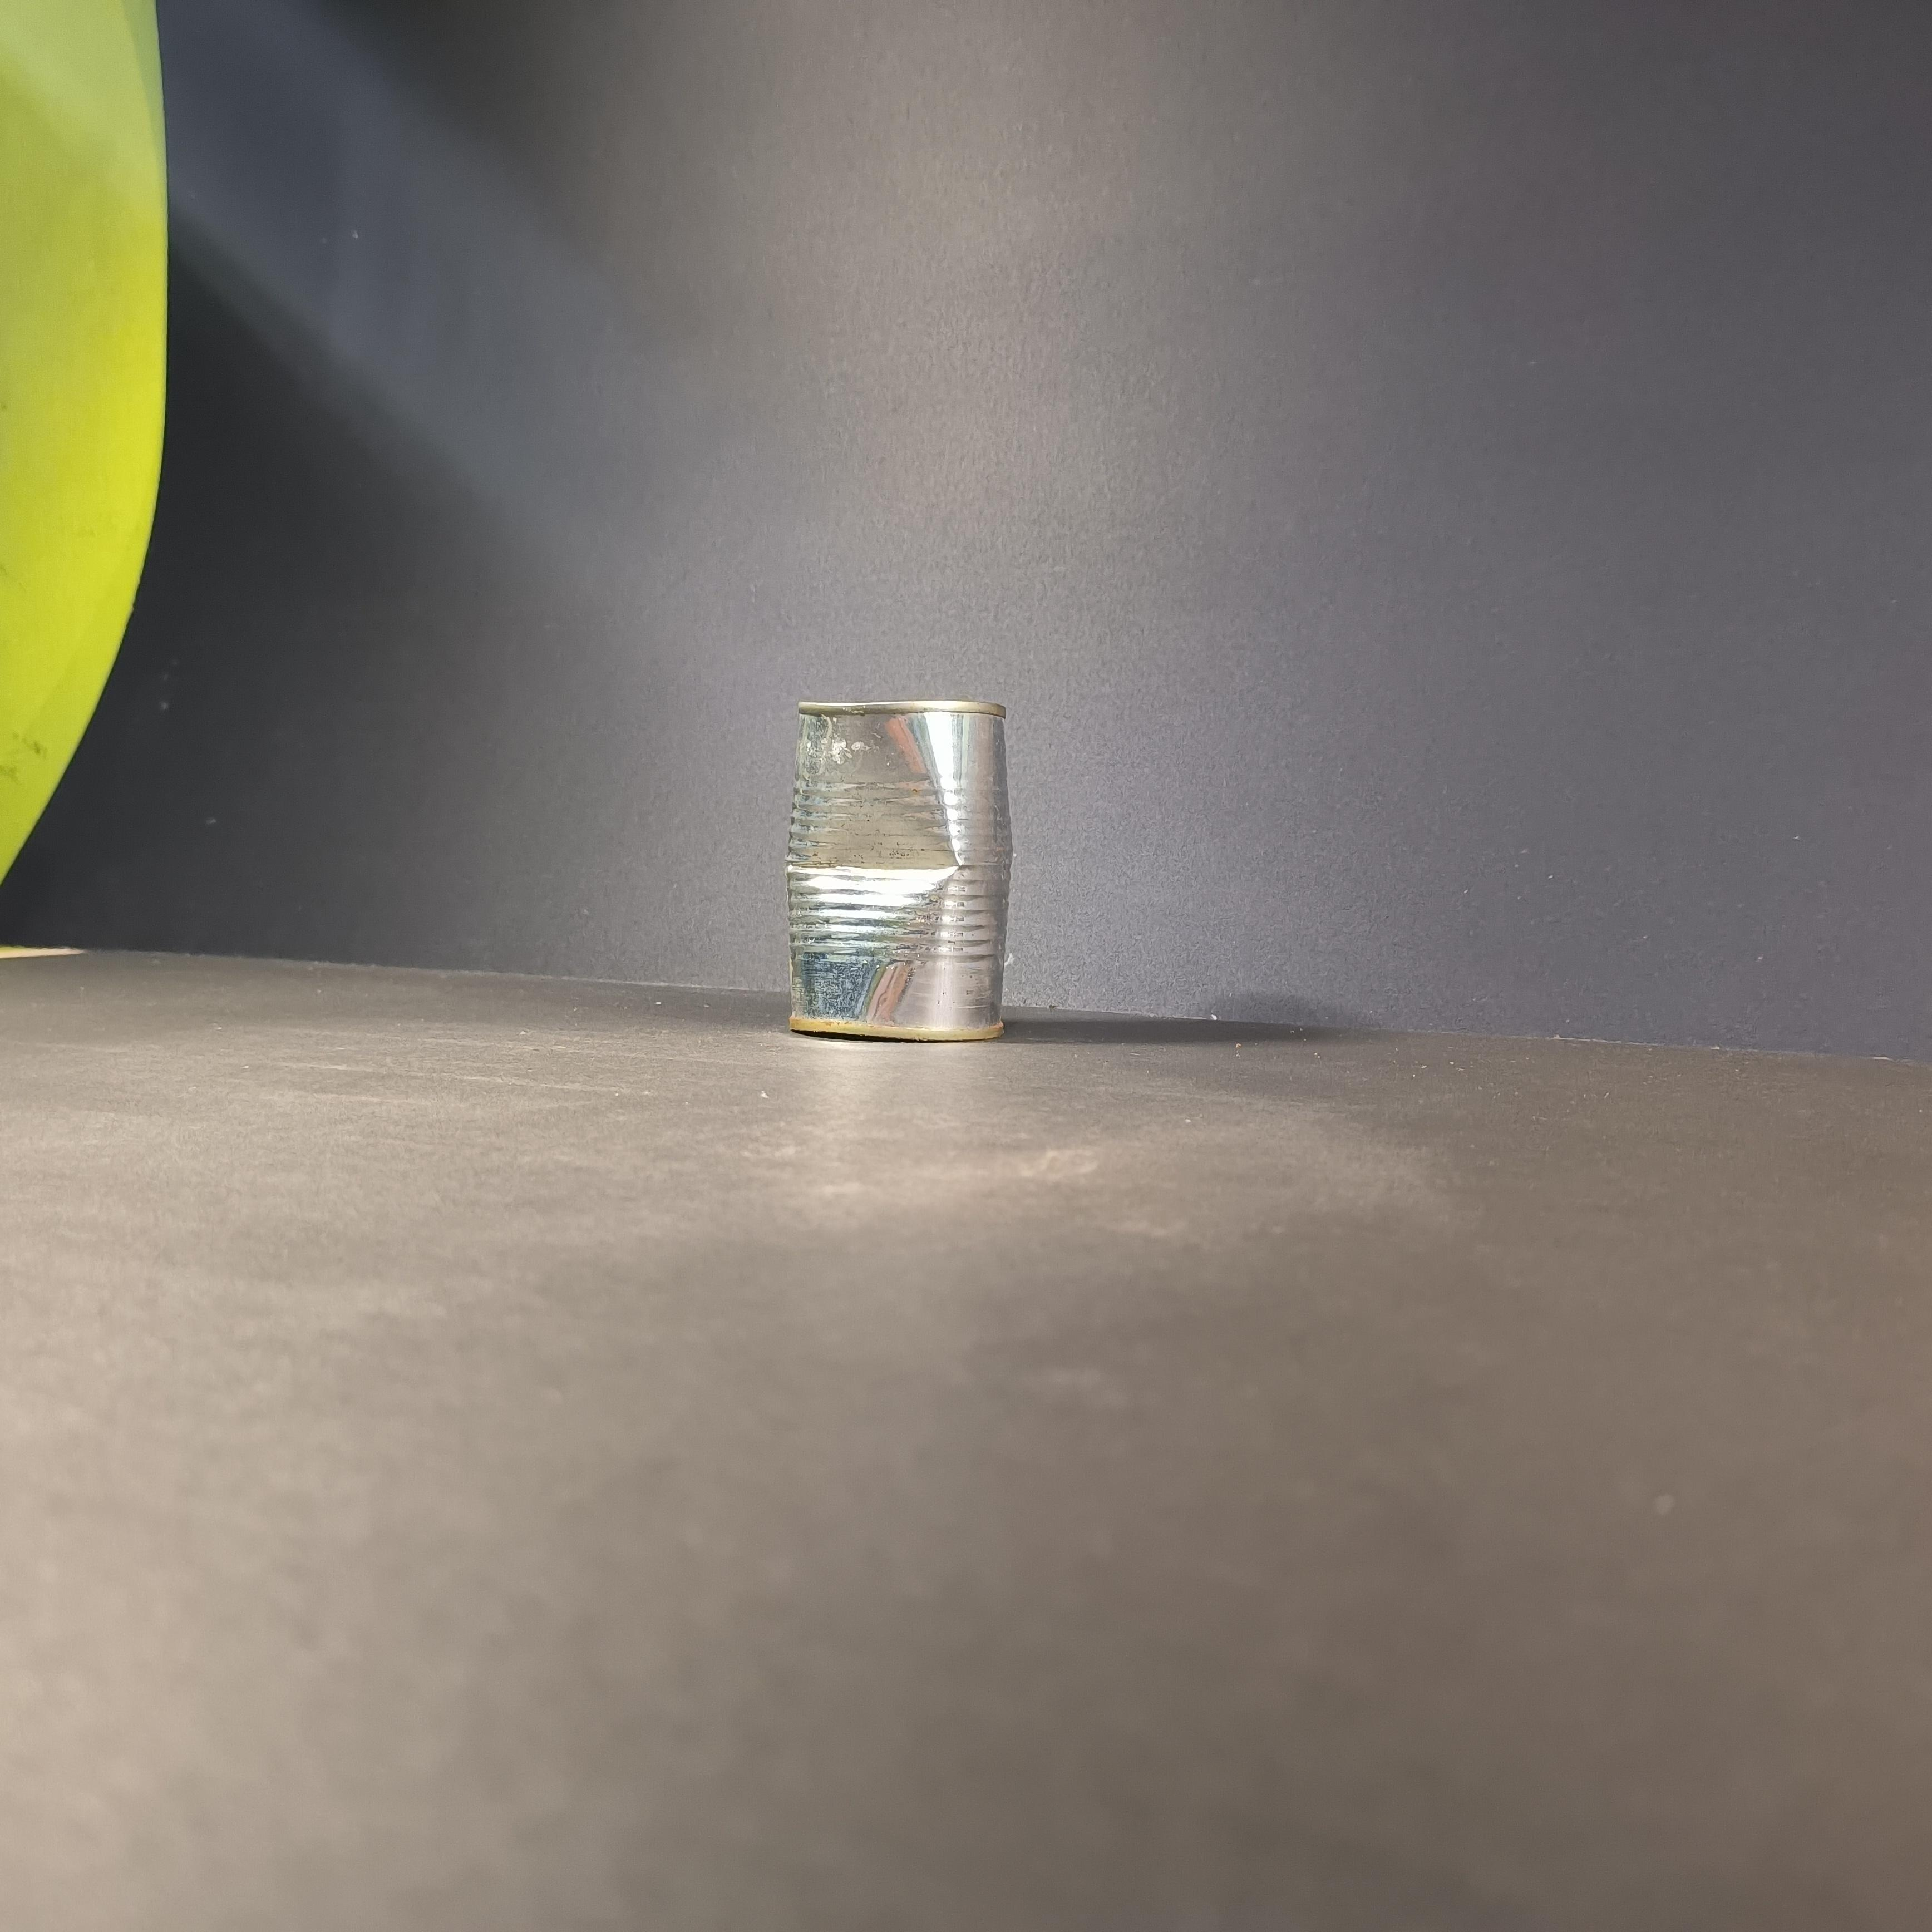Dented: (777, 681, 1026, 1060)
